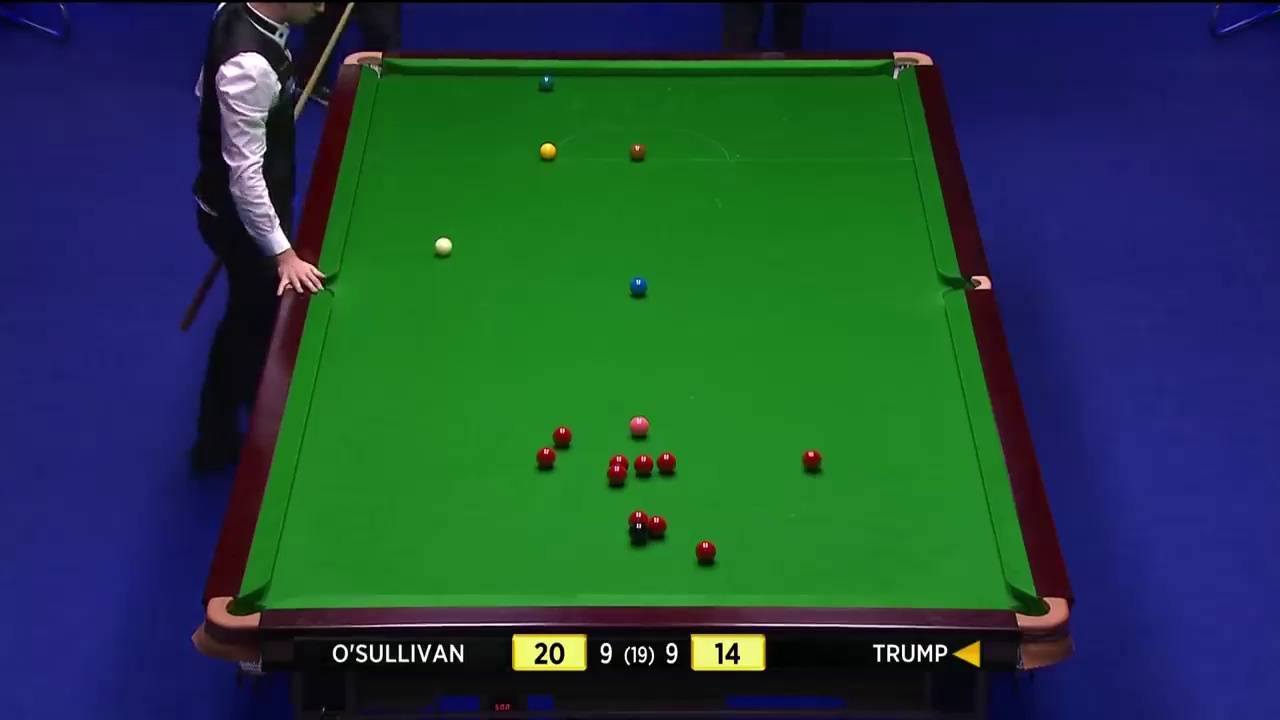ball: (626, 274, 650, 296), (695, 539, 714, 565), (628, 414, 649, 437), (647, 513, 667, 537), (535, 448, 557, 469), (655, 452, 676, 472), (802, 450, 821, 472), (432, 234, 452, 254), (535, 74, 557, 90), (538, 142, 558, 158), (630, 144, 647, 159)
